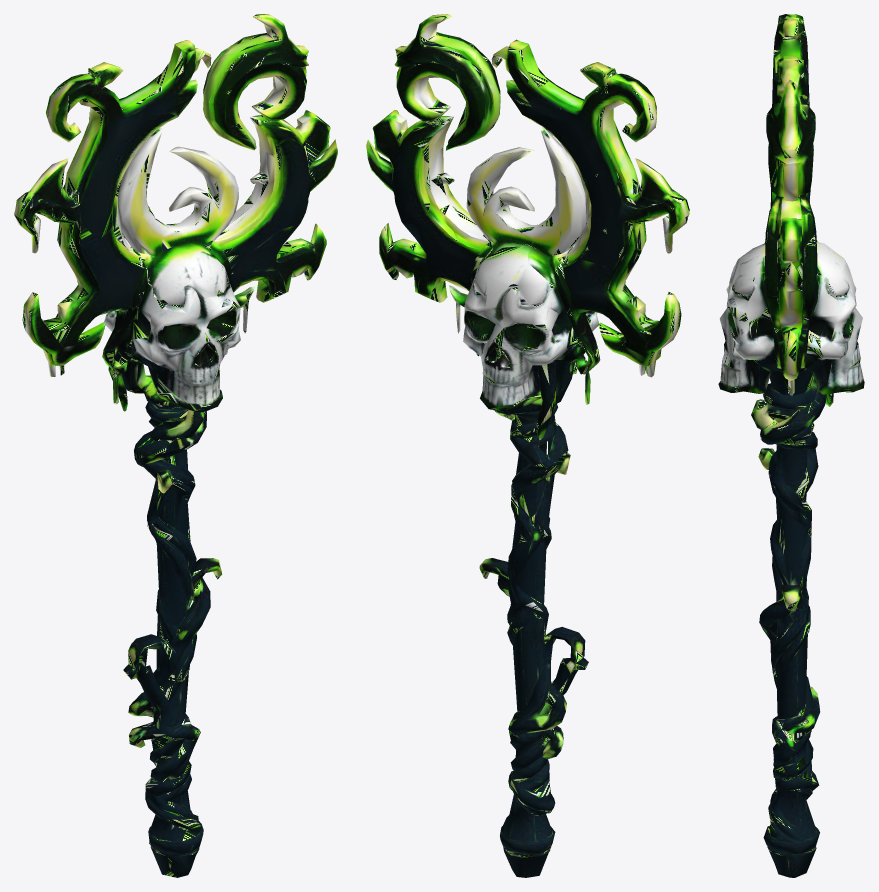
The model's file is staff-necro.glb.
The picture shows the model from 3 angles, left to right: view 1: azimuth 30°, elevation 25°; view 2: azimuth 150°, elevation 25°; view 3: azimuth 270°, elevation 25°; orthographic projection.
Parts seen in each view (by area): view 1: staff; view 2: staff; view 3: staff.
Boxes of the visible parts, x1,y1,x2,y2 form: staff: (14,14,337,877); staff: (366,14,689,877); staff: (718,14,864,877).
Bounding box in the file's own units: 0.7617 × 1.9 × 0.3038.
1 material, 1 textured.
